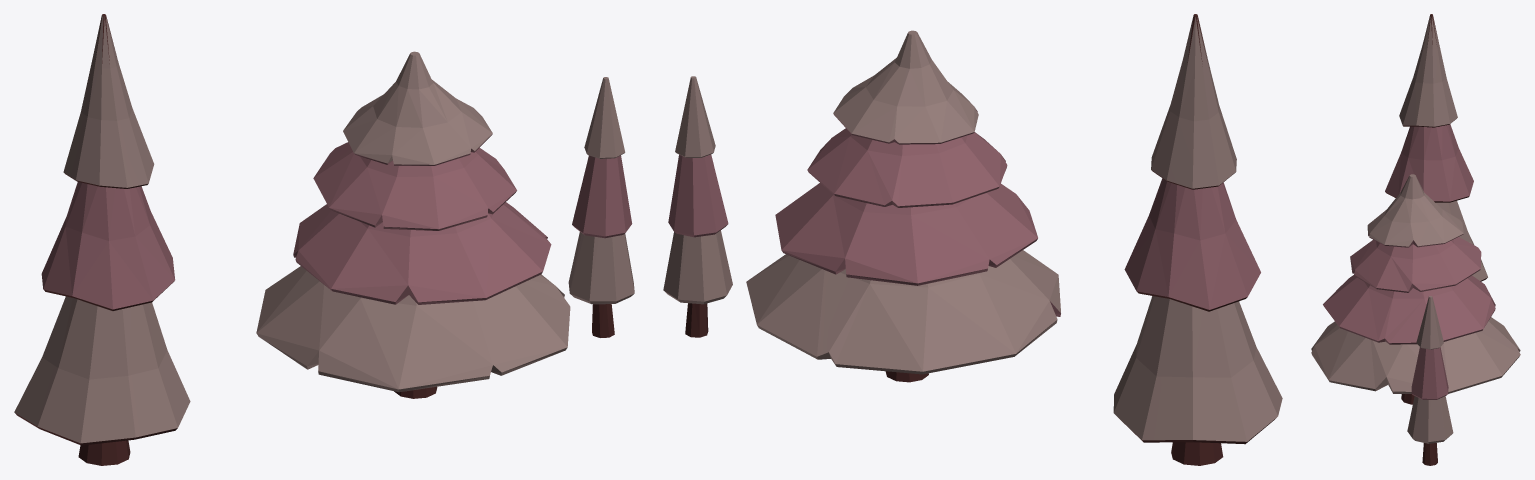
The model's file is trees (1).obj.
The picture shows the model from 3 angles, left to right: view 1: azimuth 30°, elevation 25°; view 2: azimuth 150°, elevation 25°; view 3: azimuth 270°, elevation 25°; orthographic projection. The views are drawn at different scales.
Visible parts, largest first — view 1: Tree_3_Cylinder, pinelower, top, middle, top3, toppp, pinelower2, pinemiddle2, Tree_4_Cylinder_001, toppine2, Tree_2_Cylinder_007; view 2: Tree_3_Cylinder, pinelower, top, middle, top3, toppp, pinelower2, pinemiddle2, toppine2, Tree_4_Cylinder_001, Tree_2_Cylinder_007; view 3: Tree_3_Cylinder, pinelower, middle, top3, toppp, pinelower2, pinemiddle2, toppine2, top, Tree_2_Cylinder_007, Tree_4_Cylinder_001.
Part boxes in pixels (x1=…): Tree_3_Cylinder: x1=293, y1=134, x2=551, y2=304; pinelower: x1=256, y1=266, x2=570, y2=392; top: x1=14, y1=296, x2=190, y2=443; middle: x1=41, y1=182, x2=175, y2=309; top3: x1=343, y1=51, x2=492, y2=164; toppp: x1=63, y1=15, x2=154, y2=187; pinelower2: x1=568, y1=232, x2=634, y2=304; pinemiddle2: x1=572, y1=155, x2=632, y2=238; Tree_4_Cylinder_001: x1=15, y1=14, x2=177, y2=465; toppine2: x1=584, y1=77, x2=625, y2=158; Tree_2_Cylinder_007: x1=592, y1=304, x2=614, y2=337; Tree_3_Cylinder: x1=775, y1=108, x2=1060, y2=316; pinelower: x1=746, y1=250, x2=1060, y2=374; top: x1=1113, y1=296, x2=1282, y2=441; middle: x1=1124, y1=178, x2=1260, y2=309; top3: x1=833, y1=30, x2=978, y2=143; toppp: x1=1151, y1=15, x2=1236, y2=188; pinelower2: x1=663, y1=230, x2=732, y2=304; pinemiddle2: x1=668, y1=154, x2=728, y2=237; toppine2: x1=675, y1=76, x2=715, y2=157; Tree_4_Cylinder_001: x1=1118, y1=14, x2=1275, y2=465; Tree_2_Cylinder_007: x1=685, y1=303, x2=708, y2=337; Tree_3_Cylinder: x1=1323, y1=234, x2=1495, y2=344; pinelower: x1=1311, y1=317, x2=1520, y2=393; middle: x1=1385, y1=124, x2=1473, y2=201; top3: x1=1367, y1=174, x2=1463, y2=246; toppp: x1=1399, y1=16, x2=1457, y2=126; pinelower2: x1=1407, y1=396, x2=1453, y2=443; pinemiddle2: x1=1411, y1=347, x2=1448, y2=399; toppine2: x1=1416, y1=296, x2=1443, y2=349; top: x1=1436, y1=200, x2=1487, y2=280; Tree_2_Cylinder_007: x1=1422, y1=443, x2=1437, y2=465; Tree_4_Cylinder_001: x1=1385, y1=14, x2=1487, y2=281.
Size of the model in its own units: 8.1 by 5.65 by 3.72.
